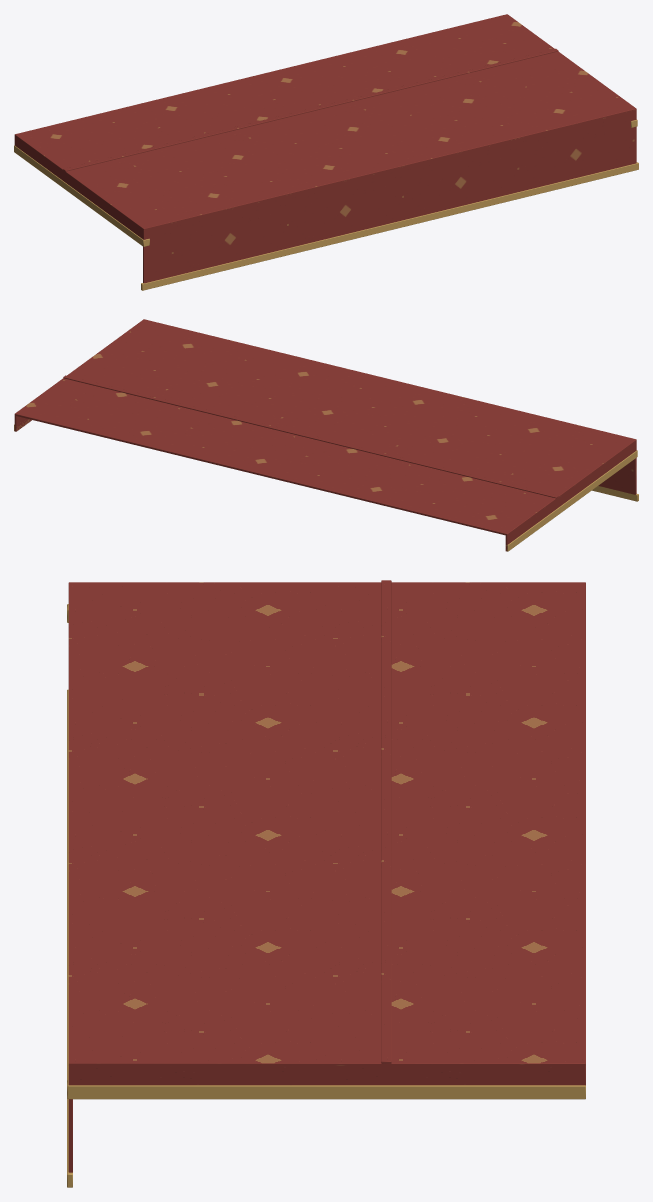
Rendered from KhanPhuBanTho.glb.
3 views of the same model, one above another, from view 1: azimuth 30°, elevation 25°; view 2: azimuth 150°, elevation 25°; view 3: azimuth 270°, elevation 25° (orthographic). The views are drawn at different scales.
Parts seen in each view (by area): view 1: Khan_MatPhu, KhanPhuBanTho; view 2: Khan_MatPhu, KhanPhuBanTho; view 3: Khan_MatPhu, KhanPhuBanTho.
Part boxes in pixels (<box>): Khan_MatPhu: <box>14,14,636,230</box>; KhanPhuBanTho: <box>14,48,638,290</box>; Khan_MatPhu: <box>14,319,636,535</box>; KhanPhuBanTho: <box>14,375,638,551</box>; Khan_MatPhu: <box>68,582,585,1066</box>; KhanPhuBanTho: <box>67,580,585,1187</box>.
Bounding box in the file's own units: 1.55 × 0.186 × 0.702.
6 materials, 5 textured.
